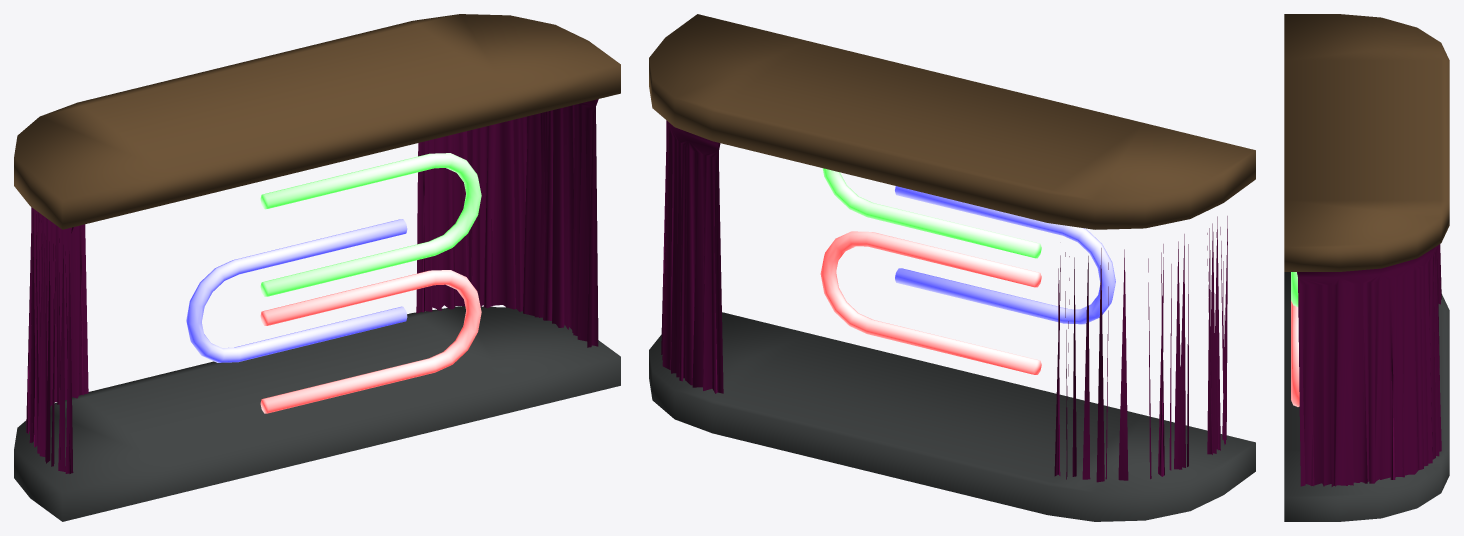
The model's file is HelenHouse-Stage.glb.
3 renders of one model, left to right at view 1: azimuth 30°, elevation 25°; view 2: azimuth 150°, elevation 25°; view 3: azimuth 270°, elevation 25°, orthographic. The views are drawn at different scales.
Parts seen in each view (by area): view 1: curtainhanger, platform, curtains, NeonBlue, NeonRed, NeonGreen; view 2: curtainhanger, platform, curtains, NeonRed, NeonBlue, NeonGreen; view 3: curtainhanger, curtains, platform, NeonRed, NeonGreen.
Part boxes in pixels (x1,y1,x2,y2): curtainhanger: (14, 14, 620, 229); platform: (14, 306, 620, 521); curtains: (26, 99, 598, 473); NeonBlue: (186, 219, 407, 362); NeonRed: (260, 270, 481, 413); NeonGreen: (260, 153, 481, 296); curtainhanger: (649, 14, 1255, 229); platform: (649, 312, 1255, 521); curtains: (661, 120, 1227, 482); NeonRed: (820, 231, 1041, 374); NeonBlue: (895, 186, 1115, 324); NeonGreen: (822, 168, 1041, 258); curtainhanger: (1284, 14, 1449, 271); curtains: (1297, 244, 1441, 486); platform: (1284, 272, 1449, 521); NeonRed: (1291, 300, 1299, 406); NeonGreen: (1291, 272, 1298, 306).
Bounding box in the file's own units: 20 × 11 × 6.
